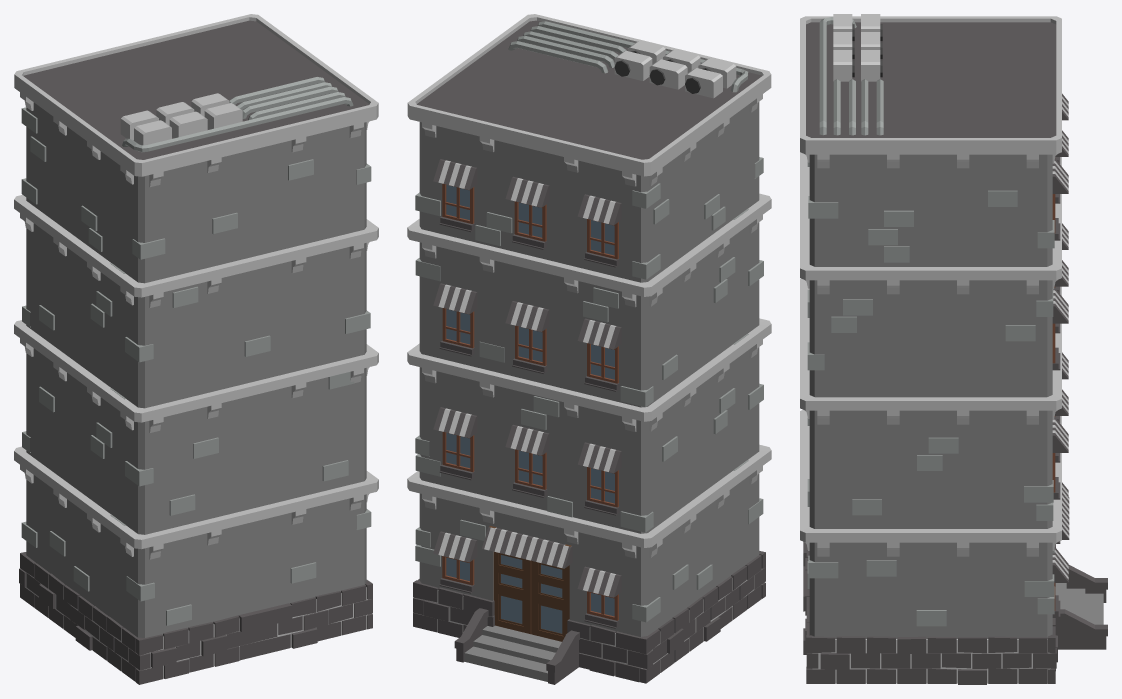
File: 4Story.glb
The picture shows the model from 3 angles, left to right: view 1: azimuth 30°, elevation 25°; view 2: azimuth 150°, elevation 25°; view 3: azimuth 270°, elevation 25°; orthographic projection. The views are drawn at different scales.
Parts seen in each view (by area): view 1: 4Story; view 2: 4Story; view 3: 4Story.
Boxes of the visible parts, bbox=[...] form: 4Story: bbox=[14, 14, 378, 684]; 4Story: bbox=[407, 14, 771, 684]; 4Story: bbox=[800, 14, 1107, 684].
Size of the model in its own units: 2.42 by 5.09 by 2.53.
Materials: 1 (1 with a texture image).
